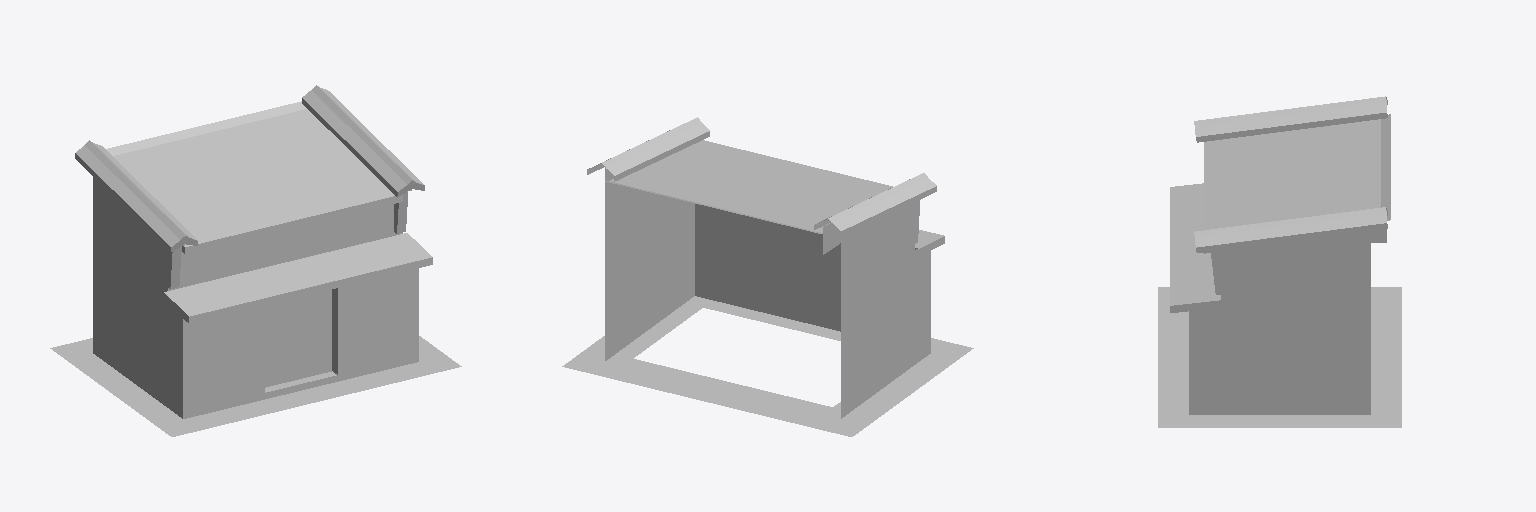
File: Japanese House 2.obj
The picture shows the model from 3 angles: view 1: azimuth 30°, elevation 25°; view 2: azimuth 150°, elevation 25°; view 3: azimuth 270°, elevation 25°; orthographic projection.
Parts seen in each view (by area): view 1: polygon5.053, polygon8.039, polygon4.058, polygon7.041, polygon2.105, polygon3.067, polygon0.135, polygon6.045; view 2: polygon1.132, polygon5.053, polygon2.105, polygon7.041, polygon8.039, polygon4.058, polygon6.045; view 3: polygon5.053, polygon7.041, polygon2.105, polygon8.039, polygon4.058, polygon6.045.
Part boxes in pixels (left/top/right/bottom): polygon5.053: left=76, top=85, right=431, bottom=316; polygon8.039: left=93, top=243, right=418, bottom=418; polygon4.058: left=118, top=270, right=409, bottom=372; polygon7.041: left=93, top=177, right=411, bottom=369; polygon2.105: left=50, top=336, right=461, bottom=436; polygon3.067: left=177, top=204, right=393, bottom=288; polygon0.135: left=265, top=290, right=331, bottom=387; polygon6.045: left=75, top=98, right=432, bottom=323; polygon1.132: left=618, top=200, right=918, bottom=348; polygon5.053: left=589, top=117, right=943, bottom=248; polygon2.105: left=562, top=296, right=973, bottom=436; polygon7.041: left=605, top=167, right=925, bottom=373; polygon8.039: left=605, top=199, right=930, bottom=418; polygon4.058: left=866, top=248, right=917, bottom=355; polygon6.045: left=587, top=131, right=944, bottom=255; polygon5.053: left=1170, top=96, right=1390, bottom=305; polygon7.041: left=1200, top=229, right=1386, bottom=369; polygon2.105: left=1158, top=287, right=1401, bottom=427; polygon8.039: left=1189, top=304, right=1370, bottom=414; polygon4.058: left=1247, top=314, right=1319, bottom=369; polygon6.045: left=1170, top=99, right=1387, bottom=312.
Bounding box in the file's own units: 16 × 11 × 11.65.